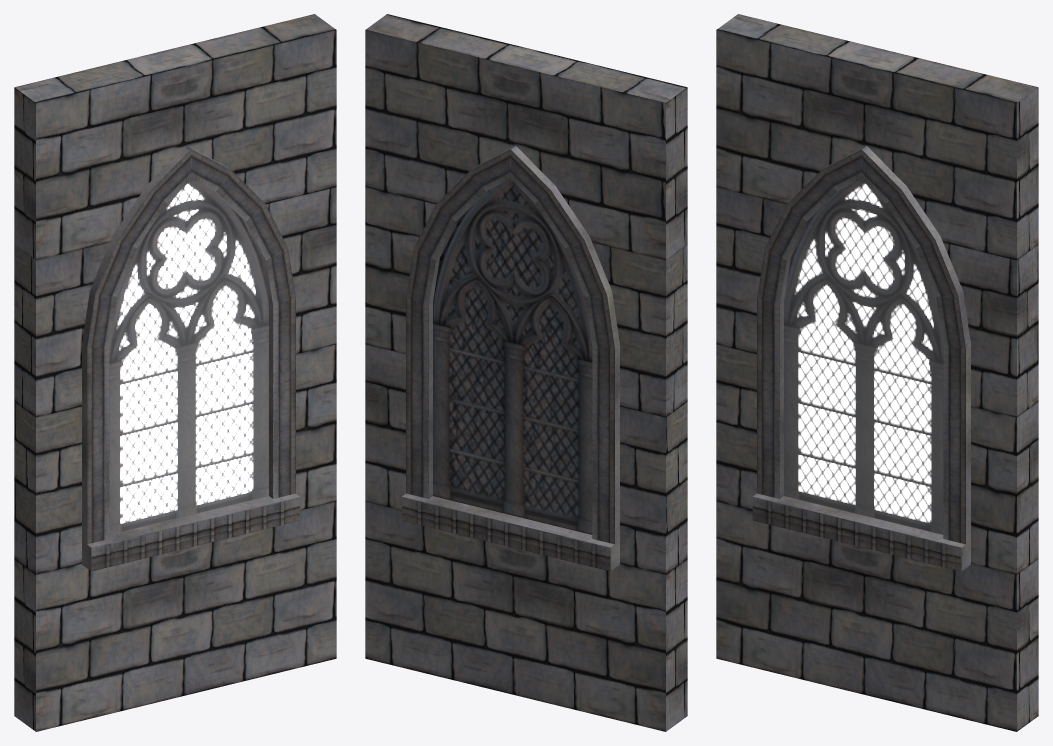
The model's file is wall_window_01.fbx.
The picture shows the model from 3 angles, left to right: view 1: azimuth 30°, elevation 25°; view 2: azimuth 150°, elevation 25°; view 3: azimuth 330°, elevation 25°; orthographic projection.
Parts seen in each view (by area): view 1: wall_window_01; view 2: wall_window_01; view 3: wall_window_01.
Boxes of the visible parts, left/top/right/bottom form: wall_window_01: left=14, top=14, right=336, bottom=731; wall_window_01: left=365, top=14, right=687, bottom=731; wall_window_01: left=716, top=14, right=1038, bottom=731.
Size of the model in its own units: 800 by 1600 by 187.
